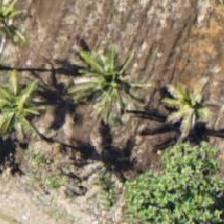coconut_tree: (67, 38, 157, 128), (153, 66, 223, 156), (0, 61, 58, 151)
